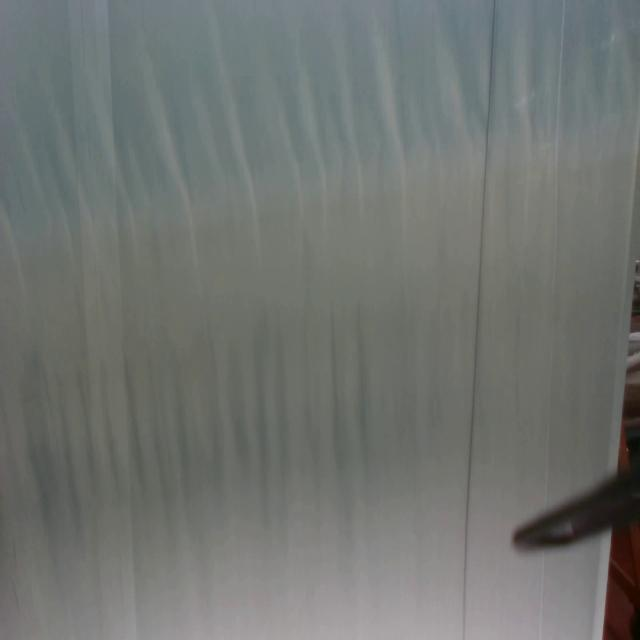crease: (77, 0, 135, 635), (461, 0, 497, 639), (546, 1, 567, 488), (537, 552, 549, 640)
